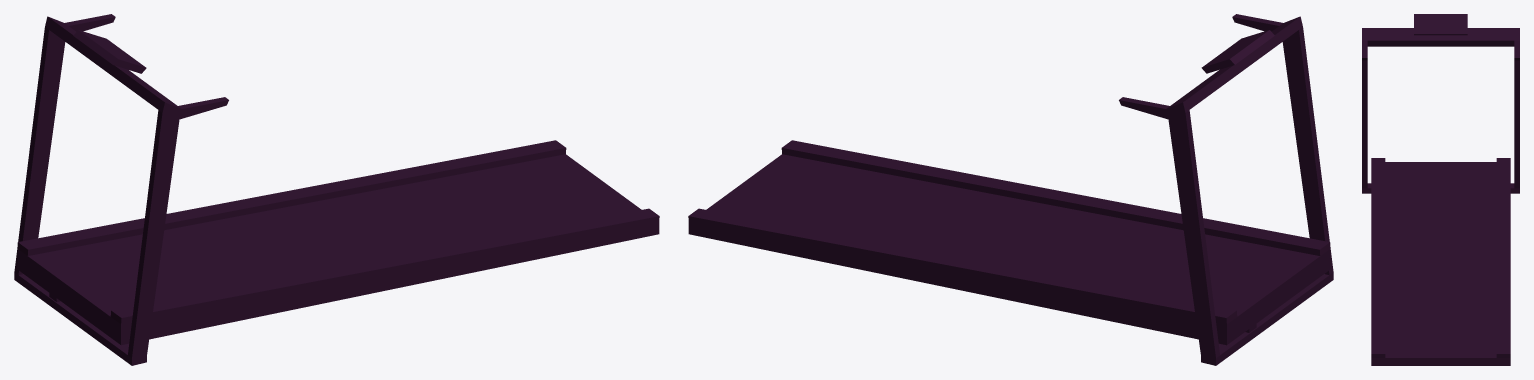
Rendered from tredmill8.11.2023_uusin.fbx.
The picture shows the model from 3 angles, left to right: view 1: azimuth 30°, elevation 25°; view 2: azimuth 150°, elevation 25°; view 3: azimuth 270°, elevation 25°; orthographic projection. The views are drawn at different scales.
Parts seen in each view (by area): view 1: Cube; view 2: Cube; view 3: Cube.
Boxes of the visible parts, bbox=[...] form: Cube: bbox=[14, 14, 659, 365]; Cube: bbox=[688, 14, 1333, 365]; Cube: bbox=[1362, 14, 1519, 365].
Size of the model in its own units: 683 by 335 by 258.
